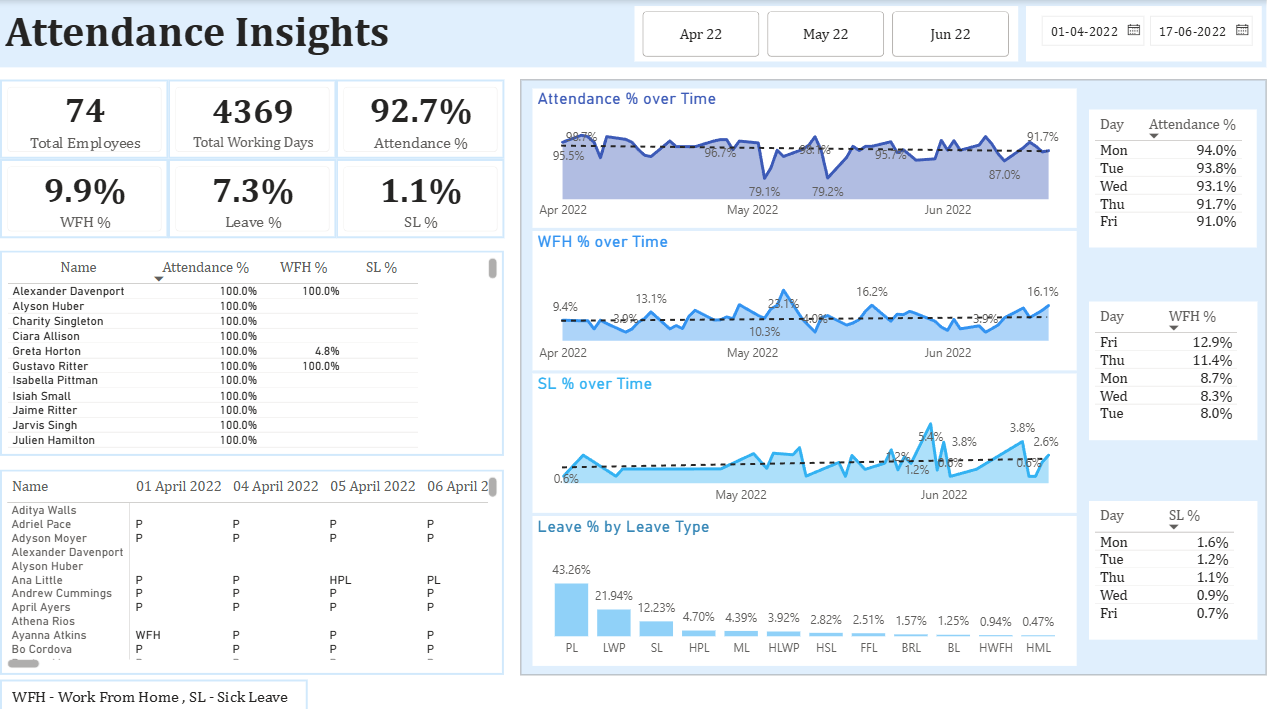

This screenshot's page, from the dashboard's own definition file:
{"tool":"powerbi","page":{"name":"Page 1","canvas":[1280,720],"ordinal":0},"visuals":[{"type":"textbox","box":[525.4,80.3,754.1,601.1],"z":0},{"type":"textbox","box":[0,0,1279.4,68],"z":1000},{"type":"cardVisual","fields":{"Data":["Measure Table.Total Working Days"]},"box":[169.6,80.3,170,80.3],"z":2000},{"type":"cardVisual","fields":{"Data":["Measure Table.Presence %"]},"box":[339.2,80.3,170,80],"z":3000},{"type":"advancedSlicerVisual","fields":{"Values":["Final Data.Month"]},"box":[640.5,6.1,387.6,56],"z":4000},{"type":"cardVisual","fields":{"Data":["Measure Table.WFH %"]},"box":[0,160.5,170,80],"z":5000},{"type":"cardVisual","fields":{"Data":["Measure Table.SL %"]},"box":[339.2,160.5,170,80],"z":6000},{"type":"tableEx","fields":{"Values":["Final Data.Name","Measure Table.Presence %","Measure Table.WFH %","Measure Table.SL %"]},"box":[0,252.9,508.8,207.4],"z":7000},{"type":"pivotTable","fields":{"Rows":["Final Data.Name"],"Values":["Min(Final Data.Value)"],"Columns":["Final Data.Date"]},"box":[0,473.9,508.8,207.4],"z":8000},{"type":"tableEx","fields":{"Values":["Final Data.Day","Measure Table.Presence %"]},"box":[1100,110,169.6,139.3],"z":9000},{"type":"tableEx","fields":{"Values":["Final Data.Day","Measure Table.SL %"]},"box":[1100,505,170,140],"z":10000},{"type":"tableEx","fields":{"Values":["Final Data.Day","Measure Table.WFH %"]},"box":[1100,305,170,140],"z":11000},{"type":"slicer","fields":{"Values":["Final Data.Date"]},"box":[1035.7,6.1,237.7,56],"z":12000},{"type":"cardVisual","fields":{"Data":["Count(Final Data.Employee Code)"]},"box":[0,80,170,80],"z":13000},{"type":"cardVisual","fields":{"Data":["Measure Table.Leave %"]},"box":[169.6,160.5,170,80],"z":14000},{"type":"textbox","box":[0,685.9,310.4,33],"z":15000},{"type":"areaChart","title":"Attendance % over Time","fields":{"Y":["Measure Table.Presence %"],"Category":["Final Data.Date"]},"box":[537.5,89.3,549.7,140.8],"z":16000},{"type":"areaChart","title":"WFH % over Time","fields":{"Category":["Final Data.Date"],"Y":["Measure Table.WFH %"]},"box":[537.5,233.2,549.7,140.8],"z":17000},{"type":"areaChart","title":"SL % over Time","fields":{"Y":["Measure Table.SL %"],"Category":["Final Data.Date"]},"box":[537.5,377,549.7,140.8],"z":18000},{"type":"columnChart","title":"Leave % by Leave Type","fields":{"Category":["Final Data.Value"],"Y":["Measure Table.Leave %"]},"box":[537.5,520.9,549.7,151.4],"z":19000}]}

Visuals, with their boxes in screenshot pixels (x1, y1, x2, y2), scaled from the page's 1280x720 canvas onto the 1267x709 screenshot:
textbox: box=[520, 79, 1266, 671]
textbox: box=[0, 0, 1266, 67]
cardVisual - Measure Table.Total Working Days: box=[168, 79, 336, 158]
cardVisual - Measure Table.Presence %: box=[336, 79, 504, 158]
advancedSlicerVisual - Final Data.Month: box=[634, 6, 1018, 61]
cardVisual - Measure Table.WFH %: box=[0, 158, 168, 237]
cardVisual - Measure Table.SL %: box=[336, 158, 504, 237]
tableEx - Final Data.Name x Measure Table.Presence %: box=[0, 249, 504, 453]
pivotTable - Final Data.Name x Min(Final Data.Value): box=[0, 467, 504, 671]
tableEx - Final Data.Day x Measure Table.Presence %: box=[1089, 108, 1257, 245]
tableEx - Final Data.Day x Measure Table.SL %: box=[1089, 497, 1257, 635]
tableEx - Final Data.Day x Measure Table.WFH %: box=[1089, 300, 1257, 438]
slicer - Final Data.Date: box=[1025, 6, 1260, 61]
cardVisual - Count(Final Data.Employee Code): box=[0, 79, 168, 158]
cardVisual - Measure Table.Leave %: box=[168, 158, 336, 237]
textbox: box=[0, 675, 307, 708]
"Attendance % over Time" areaChart: box=[532, 88, 1076, 227]
"WFH % over Time" areaChart: box=[532, 230, 1076, 368]
"SL % over Time" areaChart: box=[532, 371, 1076, 510]
"Leave % by Leave Type" columnChart: box=[532, 513, 1076, 662]
